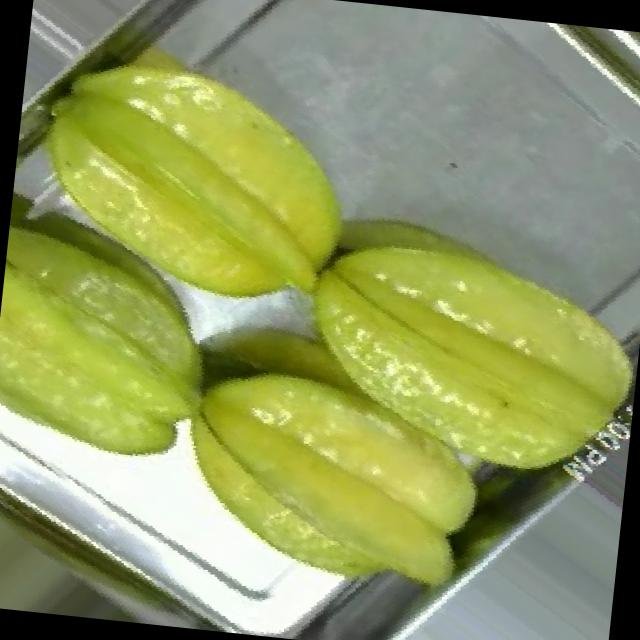fruit: (241, 175, 640, 586), (0, 0, 401, 371), (139, 314, 538, 640), (0, 171, 260, 501)
